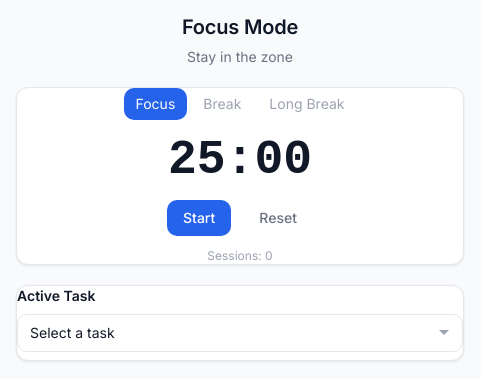
Test case: FocusMode › starts timer on start button click
Click the button "Start": (199, 218) x1=167 y1=200 x2=231 y2=236
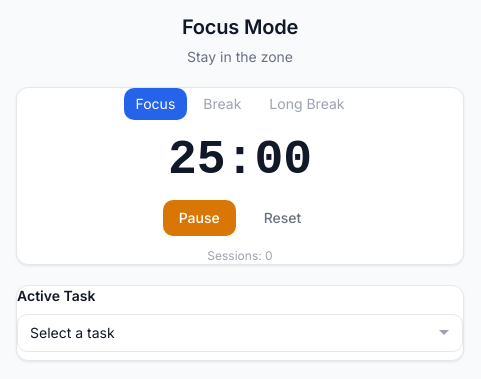
Now the button "Pause" is shown, box x1=163 y1=200 x2=236 y2=236
